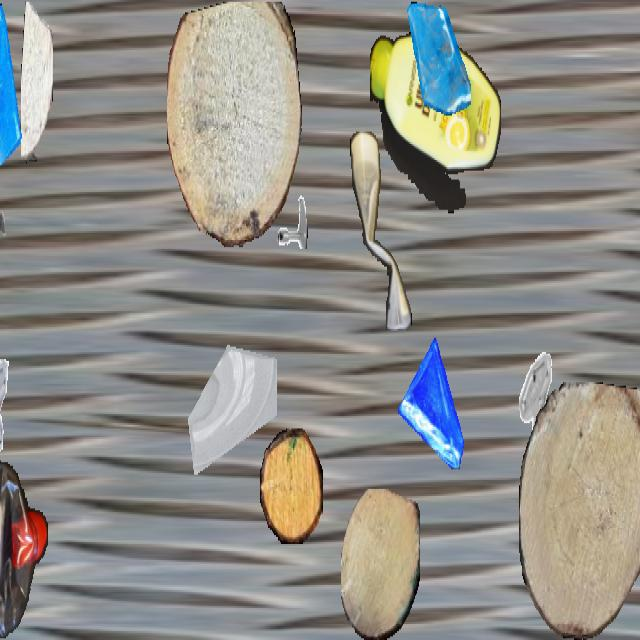glass: (184, 309, 276, 473), (398, 338, 472, 469), (407, 1, 471, 116), (0, 2, 26, 165)
metal: (505, 349, 565, 455), (266, 174, 308, 249), (0, 351, 18, 454), (0, 192, 7, 267)
plastic: (370, 32, 500, 213), (350, 132, 412, 330), (0, 436, 48, 638)
wood: (167, 2, 301, 247), (519, 382, 640, 638), (341, 489, 419, 638), (260, 428, 322, 542), (21, 2, 53, 162)
